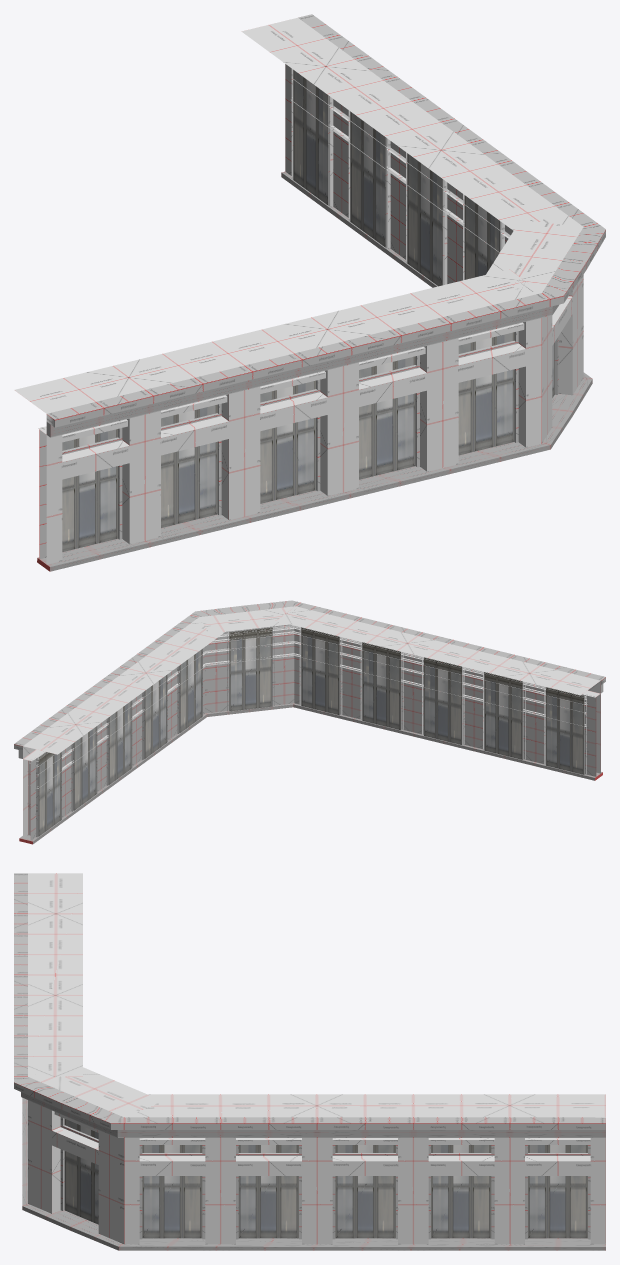
The model's file is B_04_3x_d_semi.FBX.
3 views of the same model, one above another, from view 1: azimuth 30°, elevation 25°; view 2: azimuth 150°, elevation 25°; view 3: azimuth 270°, elevation 25° (orthographic). The views are drawn at different scales.
Parts seen in each view (by area): view 1: S_01_3x_d, S_01_3x_border_t, S_01_3x_extra_b, B_01_border_bf, Object004, Object006, Object003; view 2: S_01_3x_d, Object004, S_01_3x_border_t, B_01_border_bf, S_01_3x_extra_b, Object006, Object007, Object003; view 3: S_01_3x_d, S_01_3x_border_t, Object004, S_01_3x_extra_b, B_01_border_bf, Object006, Object003, Object007.
Boxes of the visible parts, <box> form: S_01_3x_d: <box>14,17,583,564</box>; S_01_3x_border_t: <box>46,14,605,437</box>; S_01_3x_extra_b: <box>62,77,525,479</box>; B_01_border_bf: <box>37,171,591,571</box>; Object004: <box>486,220,583,442</box>; Object006: <box>62,322,524,442</box>; Object003: <box>543,378,592,449</box>; S_01_3x_d: <box>23,606,600,840</box>; Object004: <box>199,606,297,713</box>; S_01_3x_border_t: <box>14,600,605,758</box>; B_01_border_bf: <box>19,703,602,844</box>; S_01_3x_extra_b: <box>36,641,586,788</box>; Object006: <box>29,626,587,767</box>; Object007: <box>205,641,294,665</box>; Object003: <box>206,703,293,716</box>; S_01_3x_d: <box>28,873,605,1244</box>; S_01_3x_border_t: <box>14,873,605,1137</box>; Object004: <box>28,1067,162,1243</box>; S_01_3x_extra_b: <box>139,1153,590,1175</box>; B_01_border_bf: <box>22,1098,605,1250</box>; Object006: <box>139,1138,590,1144</box>; Object003: <box>22,1204,122,1250</box>; Object007: <box>52,1125,98,1164</box>.
Size of the model in its own units: 61.47 by 61.47 by 15.
